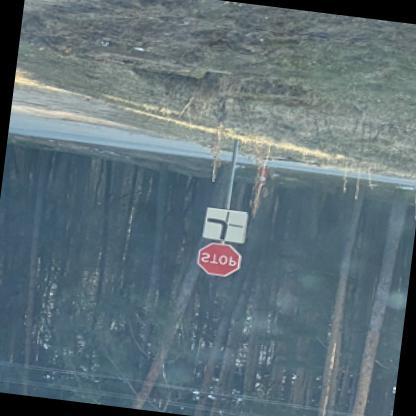stop: (193, 242, 241, 278)
